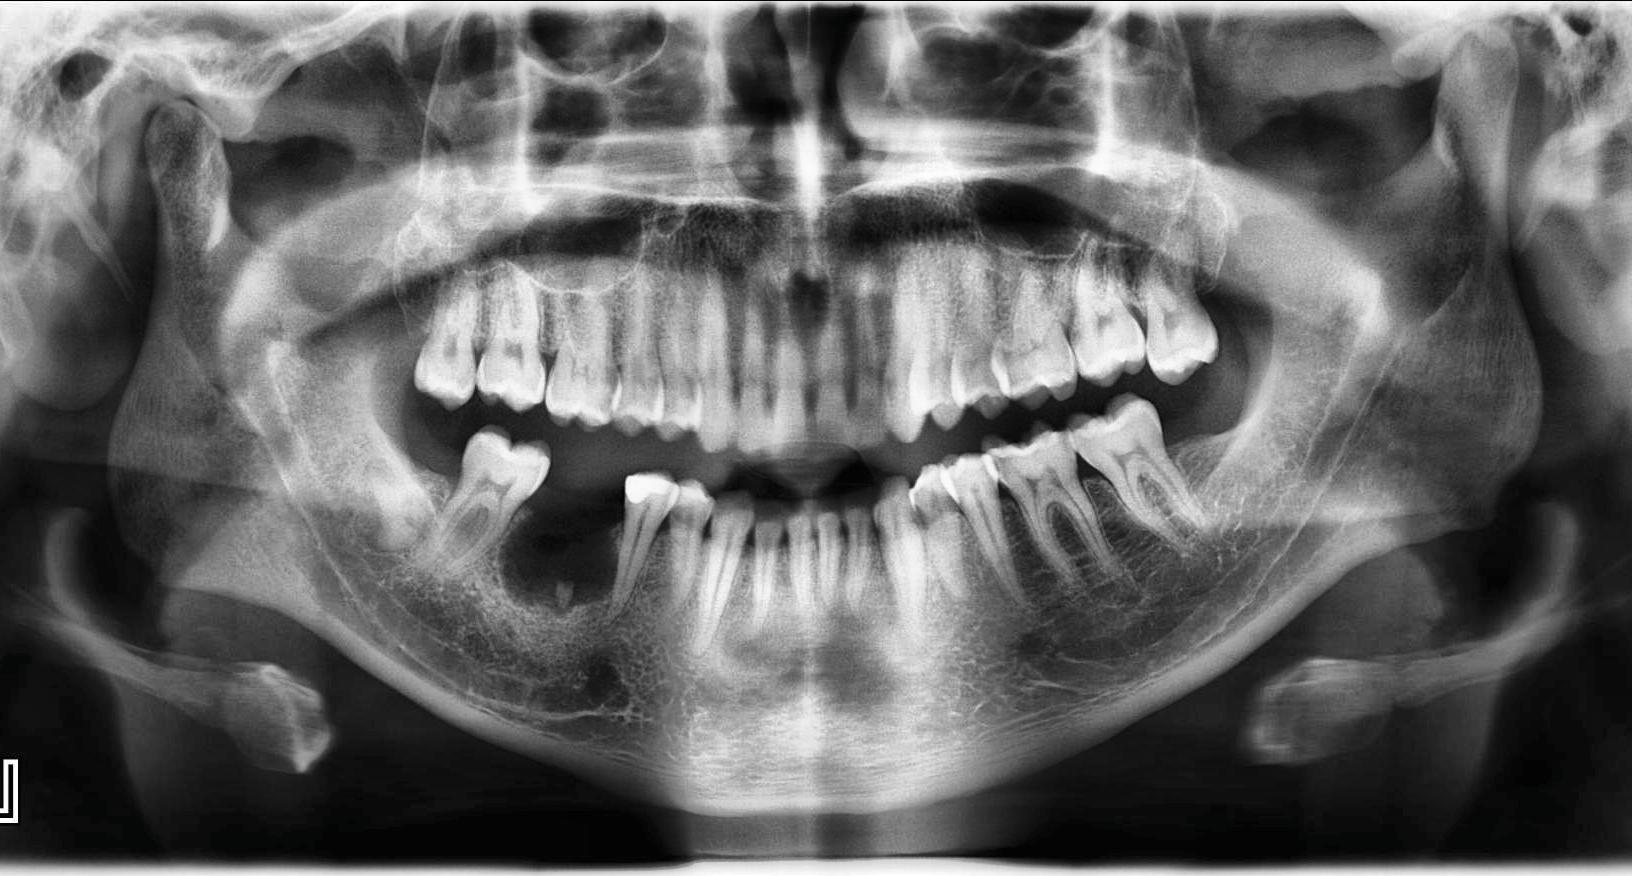radikuler: (494, 511, 620, 620)
